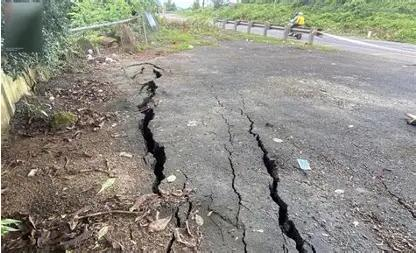ROAD_CRACK: (188, 55, 398, 230), (16, 65, 221, 230)
